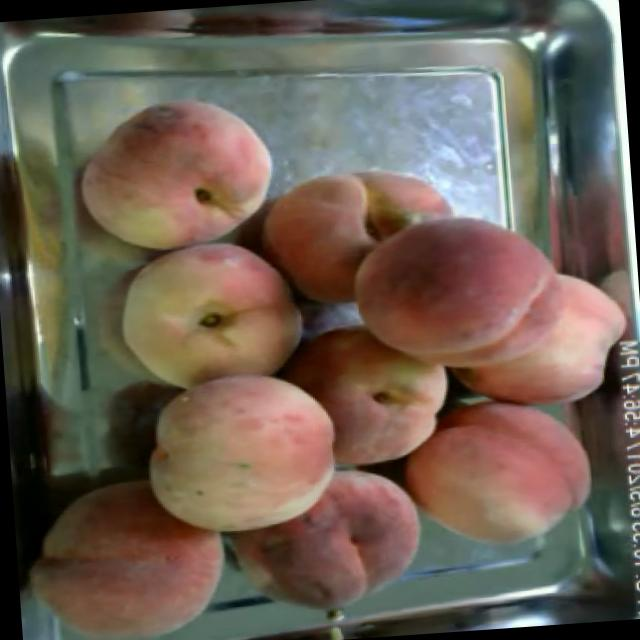Fruit: (332, 192, 600, 409), (118, 347, 358, 566), (176, 446, 442, 640), (10, 452, 253, 640), (59, 74, 290, 271), (104, 223, 320, 405), (244, 152, 466, 320), (390, 392, 606, 560), (274, 304, 466, 478)
